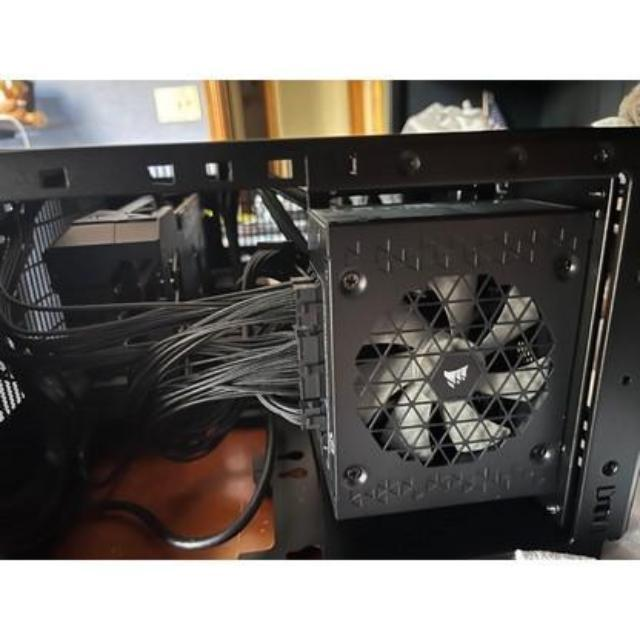PSU: (302, 192, 586, 536)
